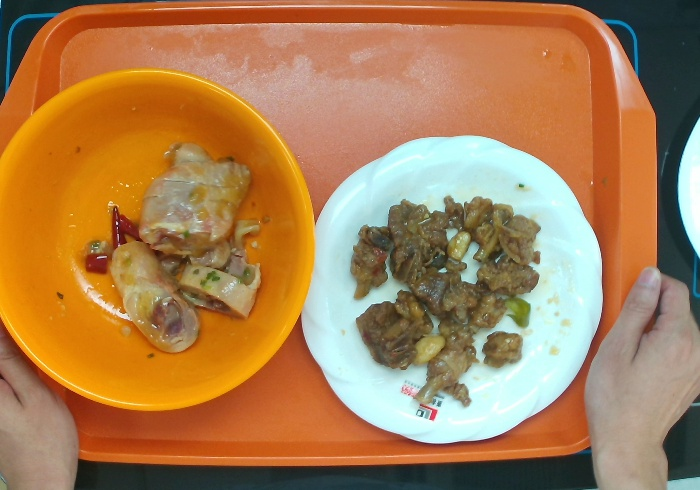ZNLD-Hua_Bian_Wan: (302, 133, 607, 451)
ZNLD-Ju_Se_Tang_Wan: (4, 68, 316, 410)
